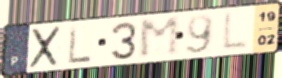3: (109, 20, 139, 61)
9: (183, 13, 218, 55)
L: (220, 10, 251, 53), (67, 24, 93, 66)
M: (138, 14, 181, 60)
X: (27, 24, 64, 70)
